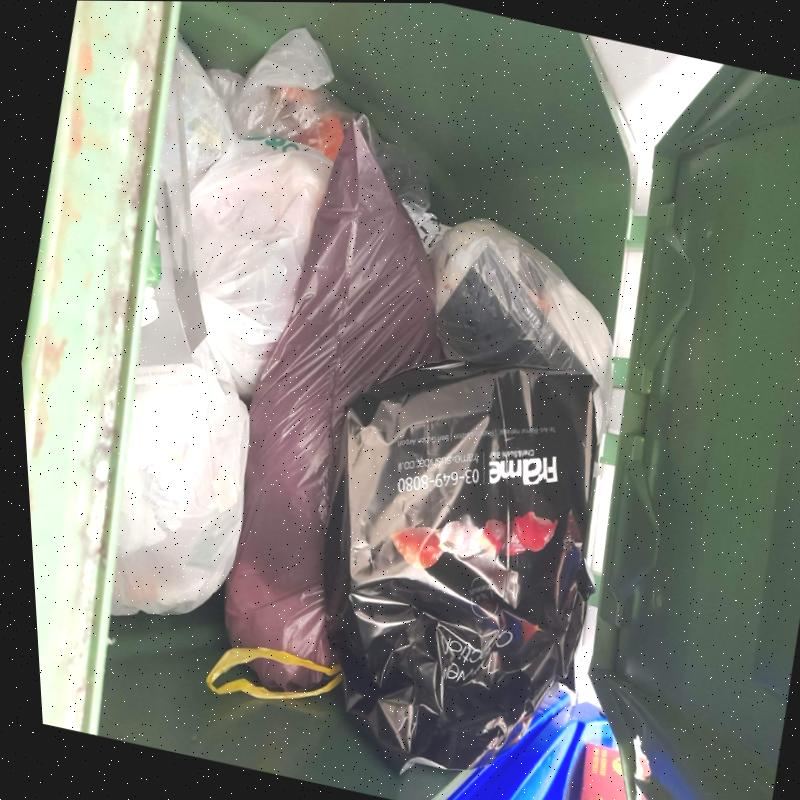cardboard: (137, 49, 205, 365)
plastic bag: (205, 121, 444, 701), (322, 362, 594, 774), (175, 35, 331, 407), (205, 27, 429, 227), (104, 361, 248, 617), (428, 218, 611, 386)
